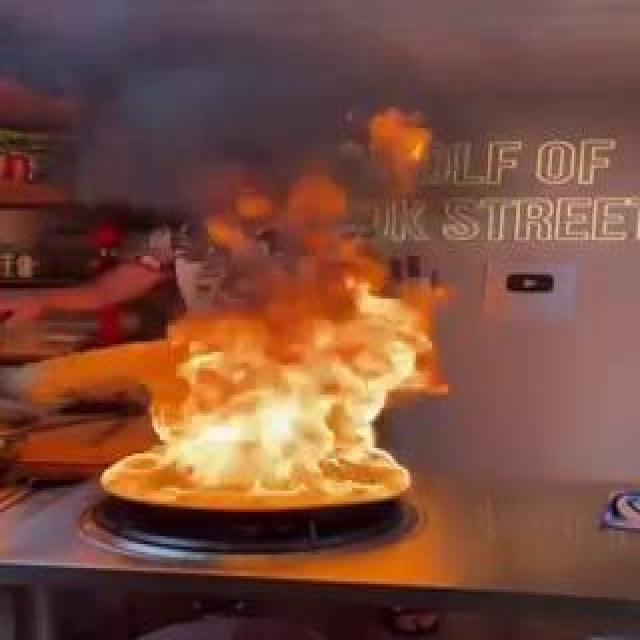Fire: (85, 124, 439, 513)
